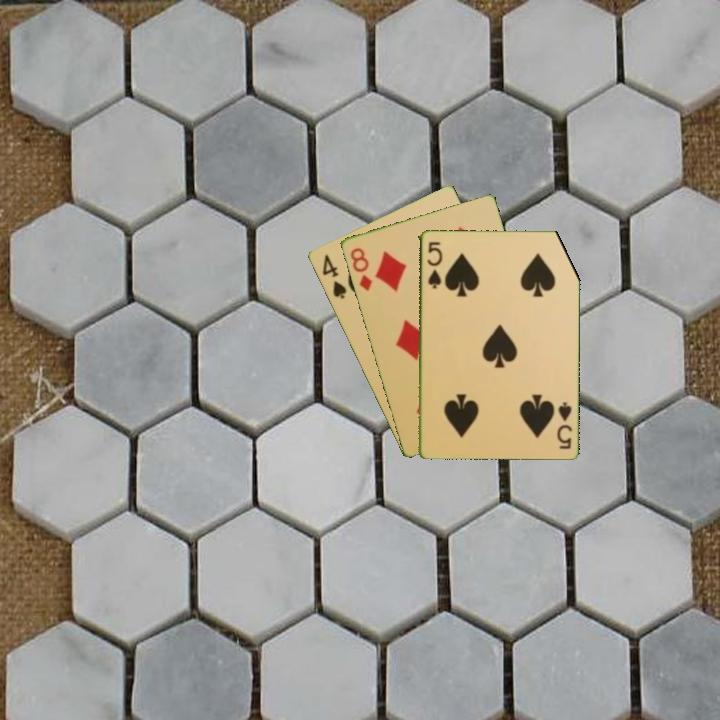4s: (318, 250, 349, 302)
5s: (423, 238, 444, 291), (553, 398, 574, 451)
8d: (346, 244, 375, 294)
